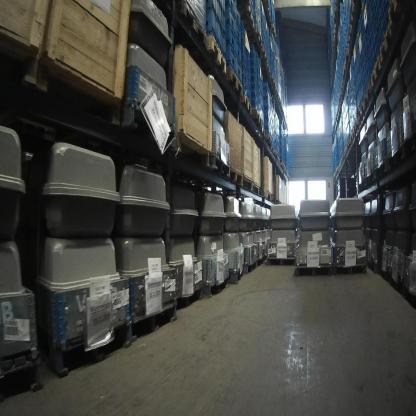pallet: (38, 51, 119, 126), (53, 316, 132, 378), (120, 97, 176, 152), (0, 348, 43, 403), (0, 26, 39, 86), (130, 303, 177, 341), (178, 0, 207, 45), (175, 132, 210, 167), (173, 283, 203, 311), (206, 36, 226, 75), (202, 272, 229, 298), (380, 26, 397, 62), (295, 263, 333, 277), (226, 67, 243, 97), (209, 152, 229, 177), (333, 263, 367, 276), (389, 145, 404, 170), (371, 56, 382, 87), (374, 159, 389, 180), (388, 0, 400, 26), (404, 132, 416, 157), (266, 257, 296, 266), (229, 167, 243, 185), (229, 266, 243, 284), (241, 94, 252, 115), (367, 258, 380, 273), (364, 82, 372, 106), (246, 5, 254, 29), (252, 108, 262, 125), (243, 262, 257, 274), (254, 28, 262, 47), (350, 7, 356, 31), (364, 173, 374, 187), (261, 45, 268, 64), (358, 103, 365, 121), (243, 177, 252, 191), (353, 117, 359, 133), (347, 28, 352, 47), (358, 181, 365, 194), (344, 49, 349, 67), (258, 125, 265, 137), (265, 133, 272, 145), (252, 183, 259, 194), (257, 257, 264, 268), (350, 130, 355, 144), (272, 23, 277, 37), (271, 74, 276, 87), (264, 192, 271, 201), (342, 65, 346, 80), (267, 63, 271, 77), (352, 0, 357, 10), (274, 87, 278, 98), (270, 145, 274, 154), (274, 149, 278, 158), (278, 96, 282, 105), (347, 139, 350, 149), (344, 146, 347, 156), (280, 161, 284, 168), (277, 157, 280, 164), (336, 167, 339, 174), (340, 157, 342, 166), (342, 154, 344, 162), (333, 172, 335, 178), (339, 162, 340, 170), (335, 171, 336, 176)
small_load_carrier: (219, 28, 242, 84), (206, 14, 219, 46), (226, 42, 236, 73), (226, 23, 236, 54), (226, 5, 236, 35), (206, 0, 219, 22), (219, 7, 226, 39), (226, 0, 236, 17), (236, 36, 242, 63), (236, 22, 242, 46), (219, 0, 226, 19), (236, 7, 242, 29), (342, 38, 349, 56), (341, 27, 348, 42), (340, 13, 346, 27), (340, 3, 345, 13)
